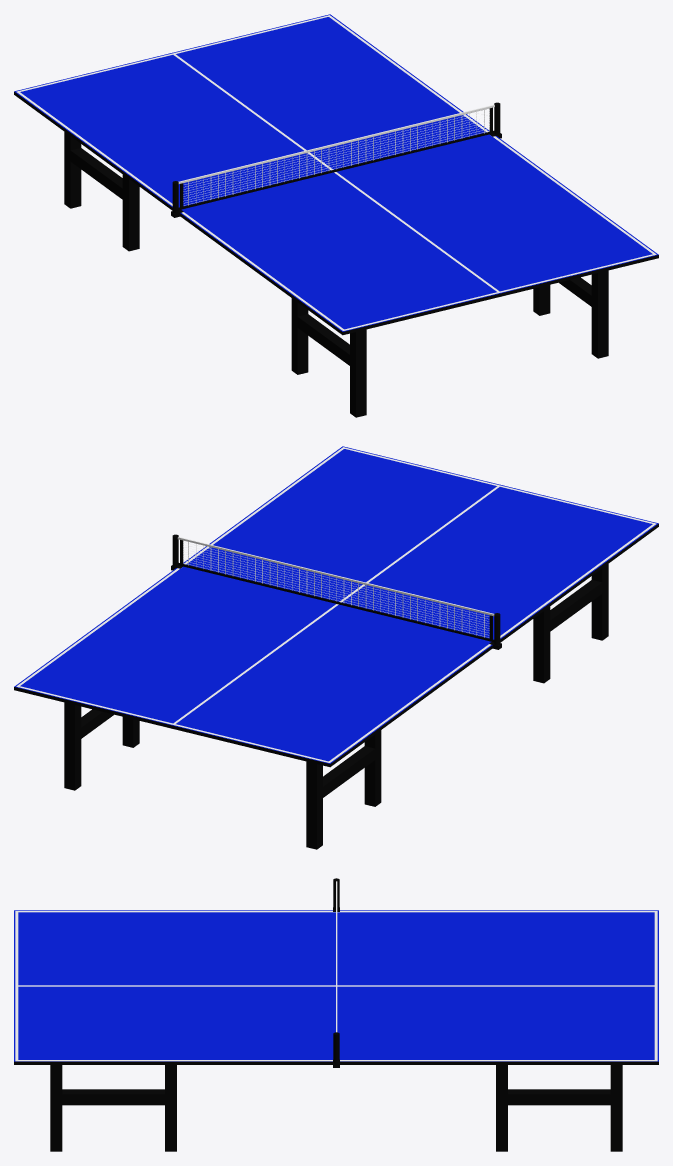
File: tabble-tennis.fbx
The picture shows the model from 3 angles, top to bottom: view 1: azimuth 30°, elevation 25°; view 2: azimuth 150°, elevation 25°; view 3: azimuth 270°, elevation 25°; orthographic projection.
Visible parts, largest first — view 1: table; view 2: table; view 3: table.
Boxes of the visible parts, bbox=[...] form: table: bbox=[14, 14, 658, 417]; table: bbox=[14, 446, 658, 849]; table: bbox=[14, 878, 658, 1151].
Bounding box in the file's own units: 518 × 207 × 900.
